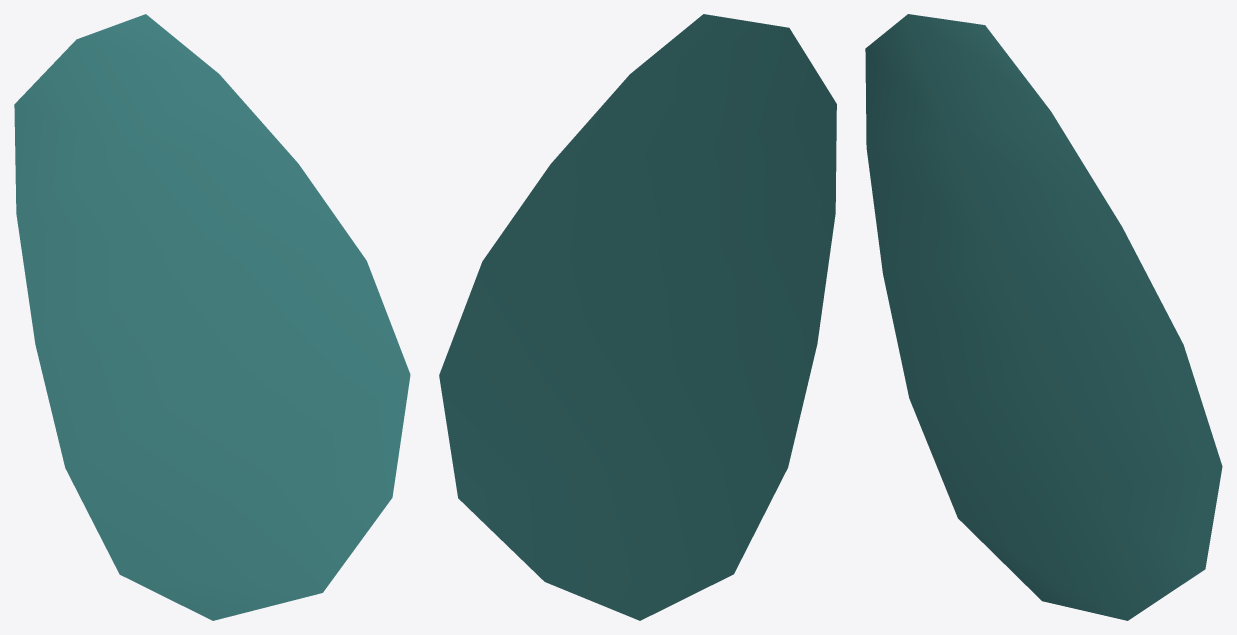
File: budgie_feather_flight_tertiary_022.obj
3 renders of one model, left to right at view 1: azimuth 30°, elevation 25°; view 2: azimuth 150°, elevation 25°; view 3: azimuth 330°, elevation 25°, orthographic. The views are drawn at different scales.
Parts seen in each view (by area): view 1: feather_flight_tertiary_022; view 2: feather_flight_tertiary_022; view 3: feather_flight_tertiary_022.
Part boxes in pixels (<box>): feather_flight_tertiary_022: <box>14,14,410,620</box>; feather_flight_tertiary_022: <box>439,14,836,620</box>; feather_flight_tertiary_022: <box>865,14,1222,620</box>.
Size of the model in its own units: 0.00949 by 0.0142 by 0.000389.
